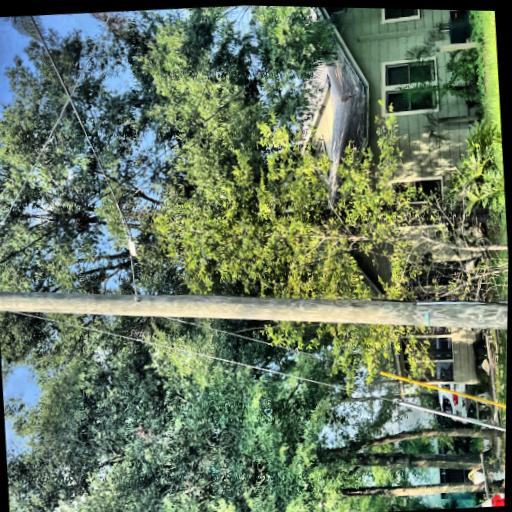pole: (36, 10, 160, 512)
street light: (0, 10, 106, 100)
